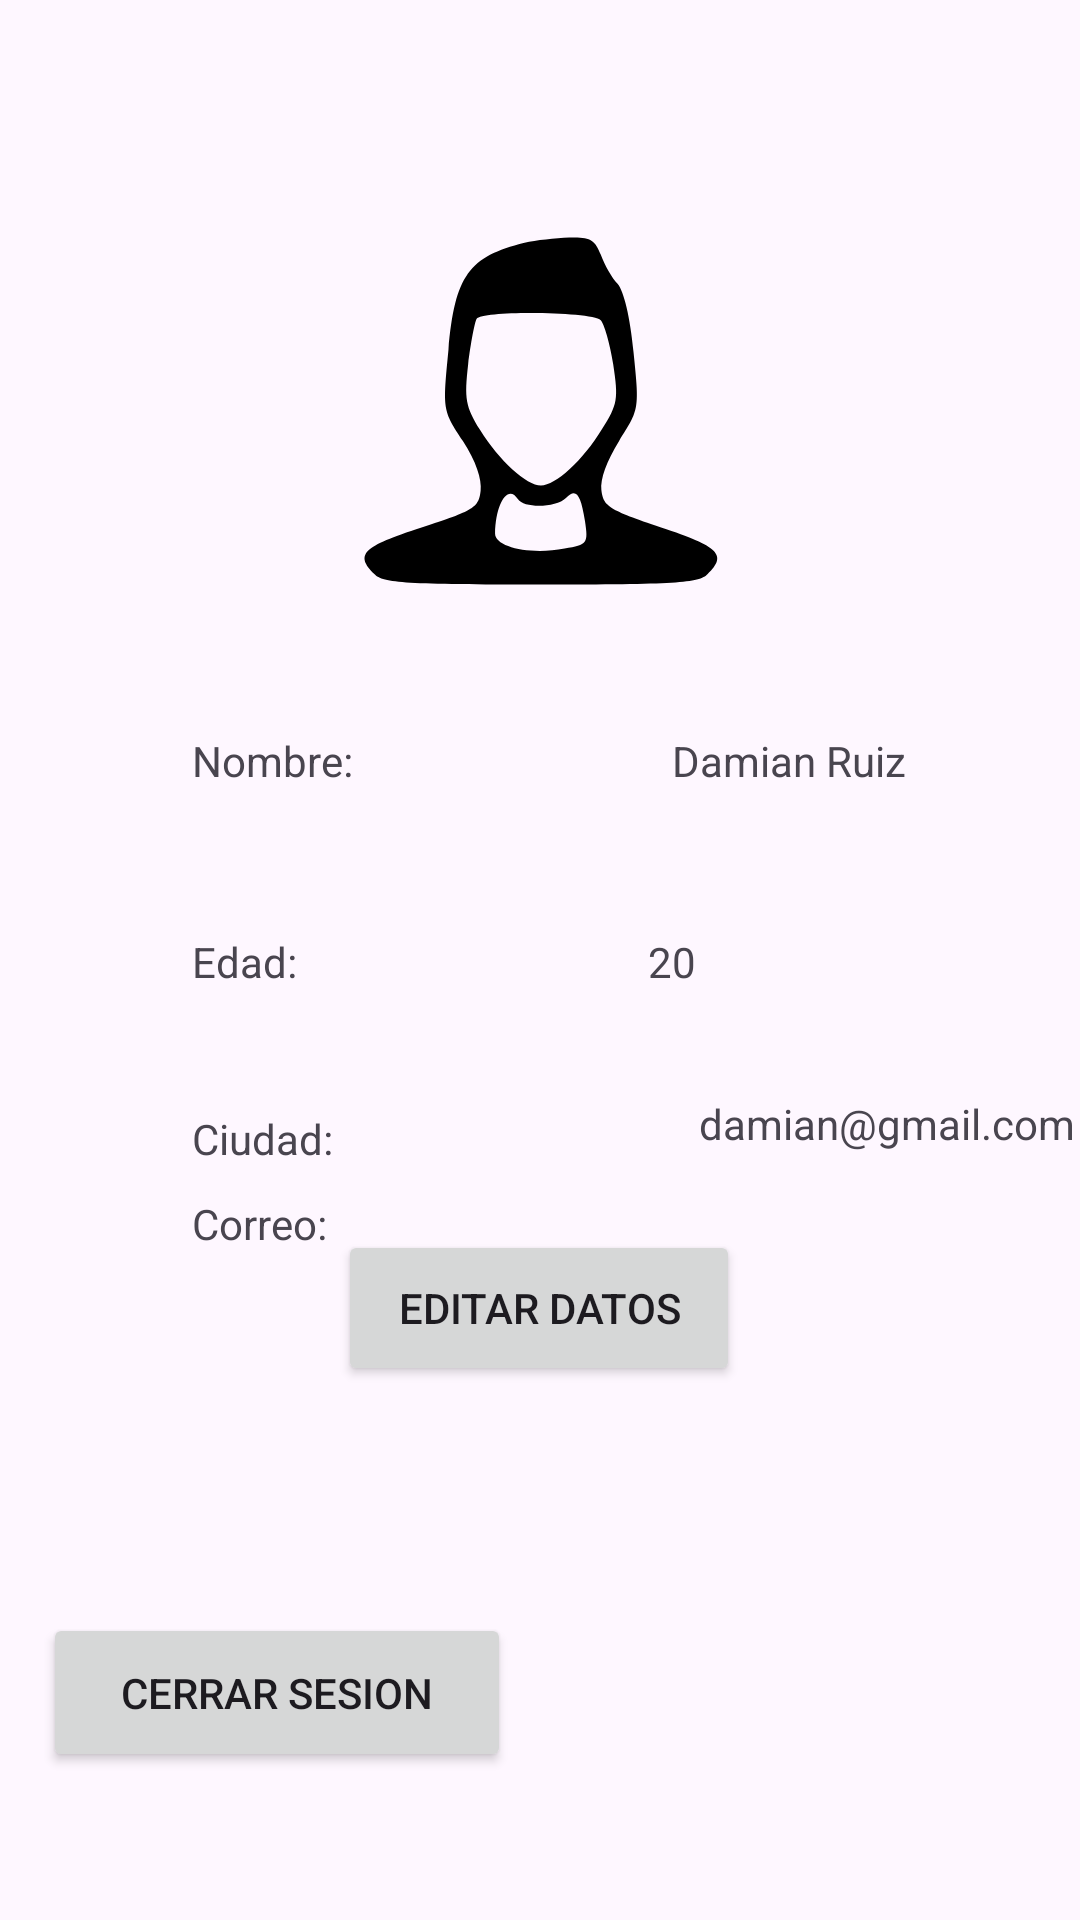

Point at icon controls on the screen. Image size 1080px×1920px, points as [x,y].
perfil: [541,411]
